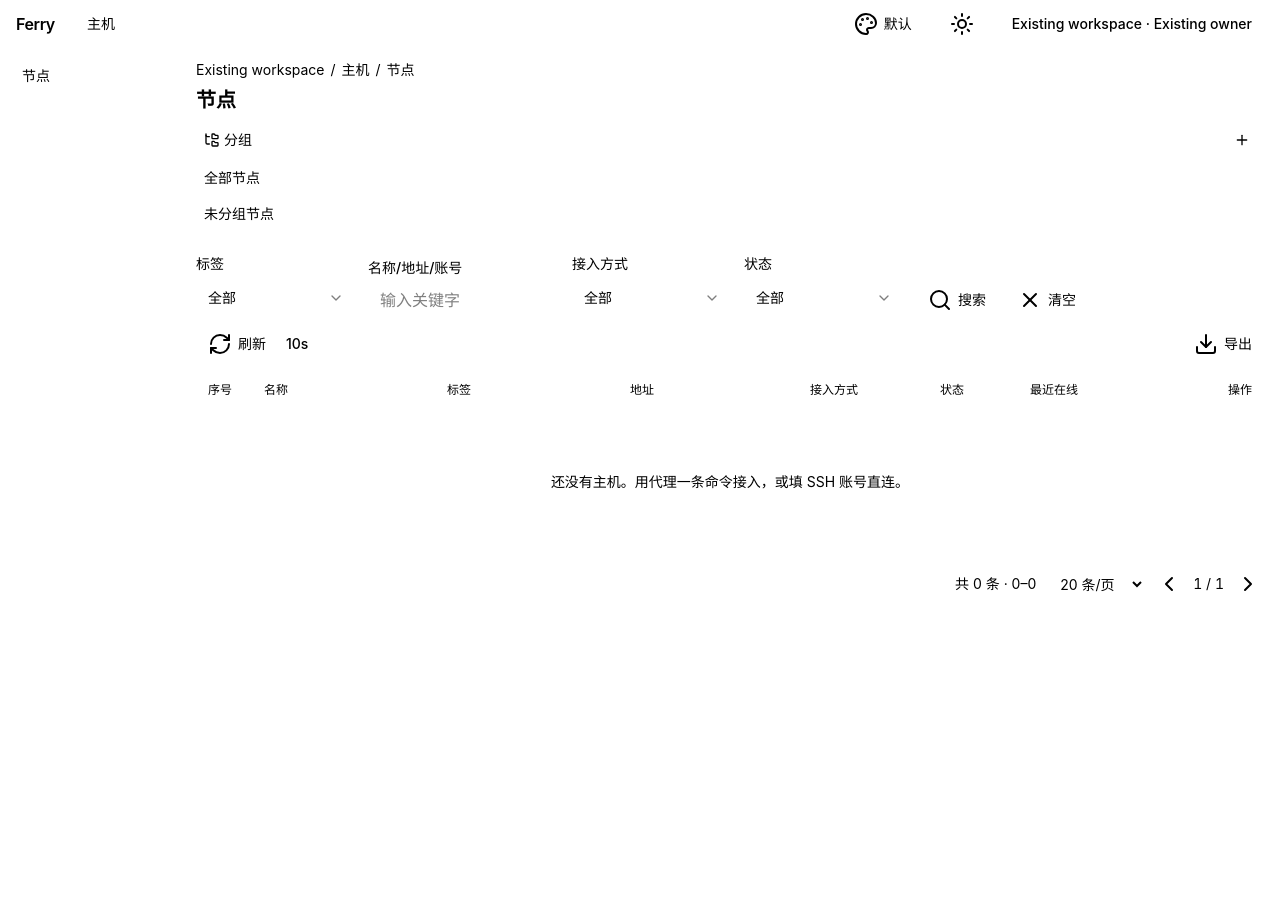
shows host groups inside the host list without a separate menu page
Expected: the element named "主机分组" shows "全部节点", [196,126,1264,242]
Expected: the element named "主机分组" shows "未分组节点", [196,126,1264,242]
Click the button named "新建分组": (1242, 140) [1228,126,1256,154]
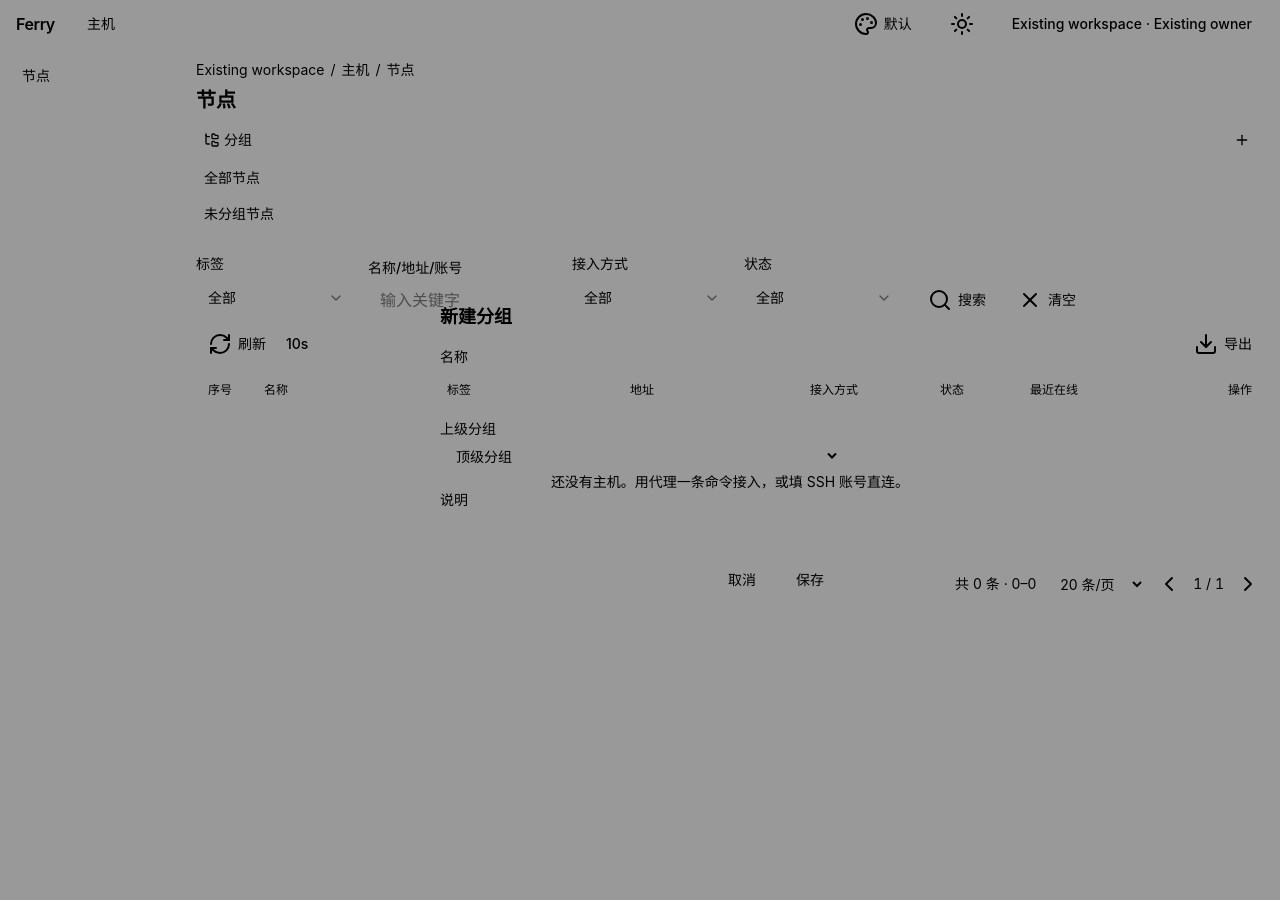
Expected: the dialog shows "新建分组", [440,306,512,326]
